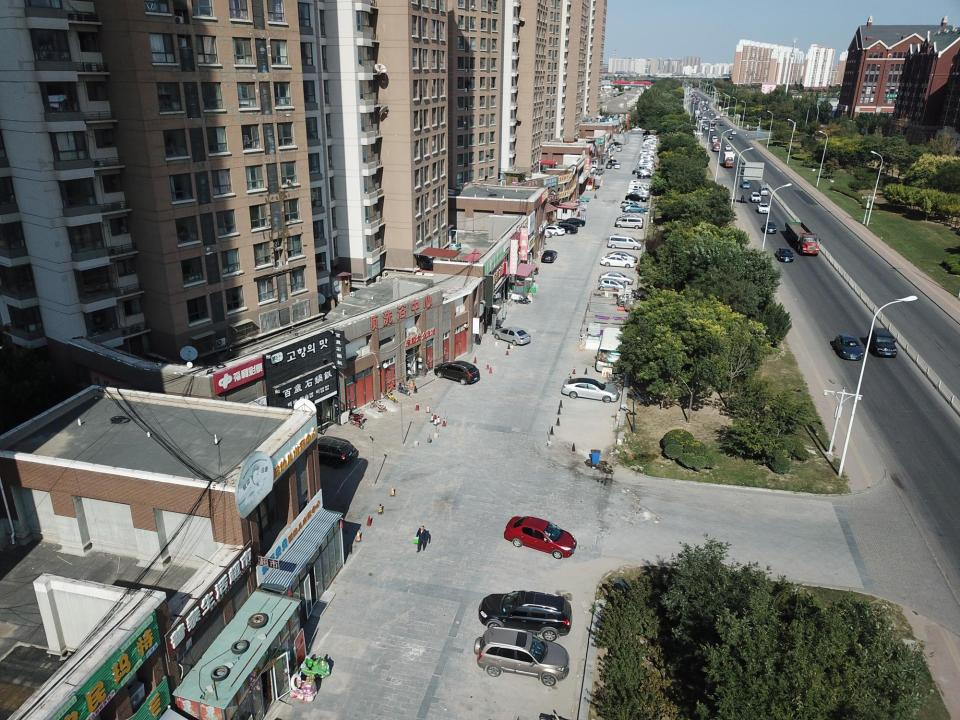car: (473, 625, 570, 686), (477, 589, 572, 643), (504, 516, 577, 560), (300, 435, 358, 469), (561, 377, 621, 403), (432, 359, 481, 387), (866, 326, 898, 358), (833, 332, 863, 360), (493, 327, 531, 346), (606, 234, 642, 251), (598, 271, 635, 285), (599, 255, 635, 269), (604, 250, 638, 264), (598, 277, 625, 293), (558, 217, 586, 229), (550, 223, 577, 235), (774, 247, 794, 263), (539, 225, 566, 236), (616, 214, 644, 224), (540, 249, 558, 264), (762, 219, 777, 234), (620, 200, 644, 208), (622, 206, 649, 212), (757, 202, 770, 214), (750, 192, 762, 203), (740, 166, 752, 176), (738, 161, 750, 170), (741, 179, 750, 188), (607, 159, 617, 165), (612, 141, 620, 146), (730, 151, 736, 157), (605, 163, 611, 169), (725, 145, 732, 150)
truck: (784, 220, 821, 257), (723, 150, 734, 168), (710, 141, 722, 152)
van: (594, 325, 631, 375), (615, 216, 643, 230), (592, 167, 605, 175), (758, 185, 768, 195), (615, 162, 621, 170), (615, 145, 622, 151)
